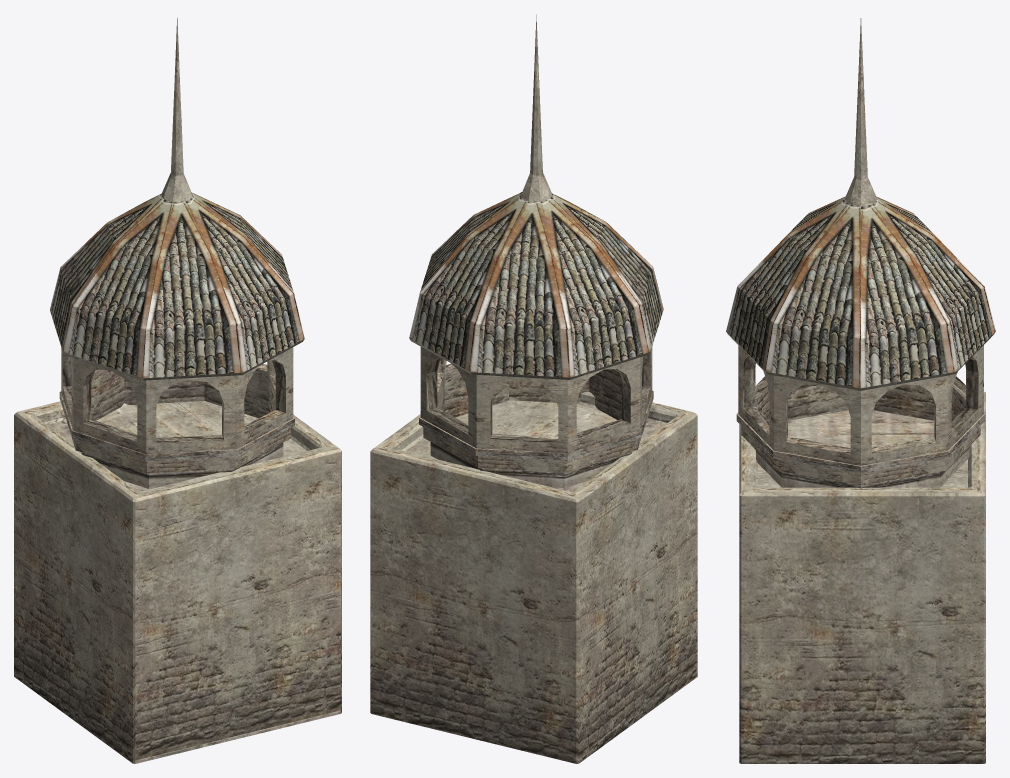
File: TW2_5_HOUSE_01_11-transformed.glb
3 renders of one model, left to right at view 1: azimuth 30°, elevation 25°; view 2: azimuth 150°, elevation 25°; view 3: azimuth 270°, elevation 25°, orthographic. The views are drawn at different scales.
Parts seen in each view (by area): view 1: default; view 2: default; view 3: default.
Boxes of the visible parts, x1=… form: default: x1=14, y1=17, x2=341, y2=763; default: x1=370, y1=14, x2=697, y2=763; default: x1=726, y1=18, x2=995, y2=763.
Bounding box in the file's own units: 3.37 × 9.59 × 3.37.
3 materials, 3 textured.
